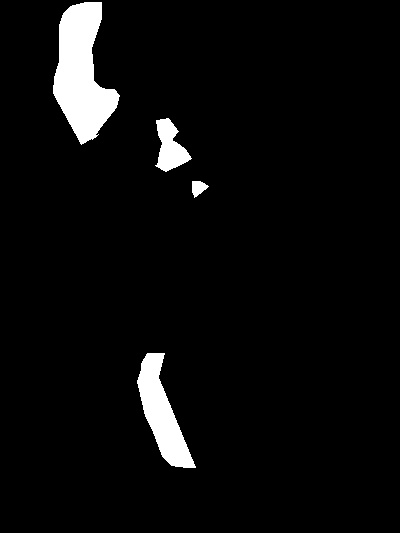Fire: (52, 1, 111, 153), (148, 113, 212, 201)
